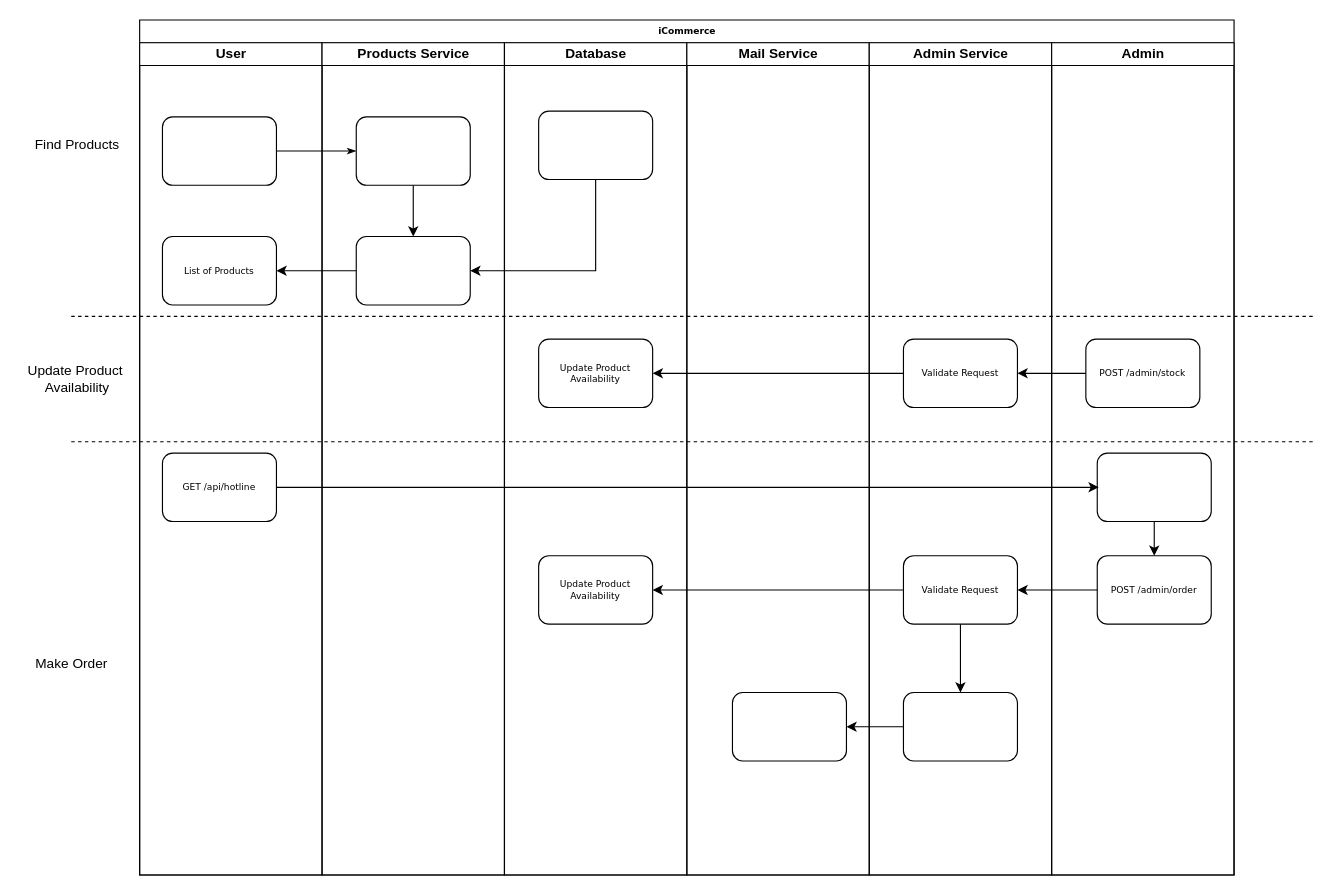
The diagram is 1335 pixels wide and 895 high, and some of its shapes have lost their labels. Here are the shapes that lost their labels. From the top down, the centre of each, then its label:
[218,150]: GET /api/products
[412,150]: Query Database
[595,145]: Product Availability
[412,270]: Check Product Availabilty
[1153,487]: Receive Order
[788,726]: Send email
[959,726]: Put message to queue
